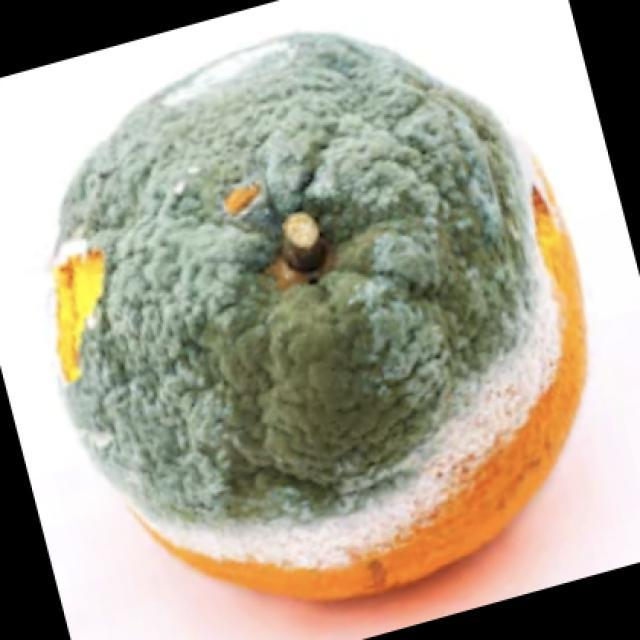sangat-busuk: (55, 33, 584, 594)
